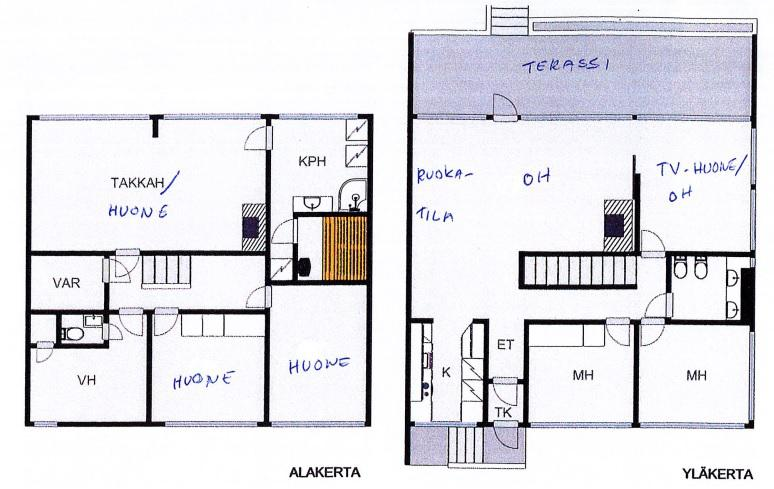bathroom: (671, 251, 750, 321), (59, 316, 104, 347)
door: (641, 290, 676, 321), (241, 123, 275, 154), (490, 90, 520, 125), (637, 316, 669, 348), (491, 374, 520, 409), (492, 417, 521, 452), (605, 315, 633, 351), (99, 259, 134, 286), (151, 306, 180, 337), (114, 248, 142, 280), (118, 304, 143, 339), (640, 228, 667, 260), (271, 218, 301, 246), (243, 284, 271, 308), (34, 341, 56, 367), (101, 322, 127, 341)
perimeter: (405, 113, 756, 430), (26, 115, 371, 429)
stairs: (524, 255, 637, 287), (144, 255, 192, 285), (448, 427, 483, 464), (492, 7, 529, 35)
window: (35, 111, 152, 125), (158, 418, 267, 432), (519, 112, 636, 124), (636, 419, 750, 431), (634, 113, 752, 124), (269, 418, 368, 431), (747, 329, 760, 426), (526, 420, 636, 431), (158, 111, 266, 121), (273, 111, 363, 123), (415, 110, 492, 123), (413, 420, 482, 432), (749, 185, 760, 253), (748, 125, 760, 187), (32, 418, 60, 431), (747, 254, 758, 271)
